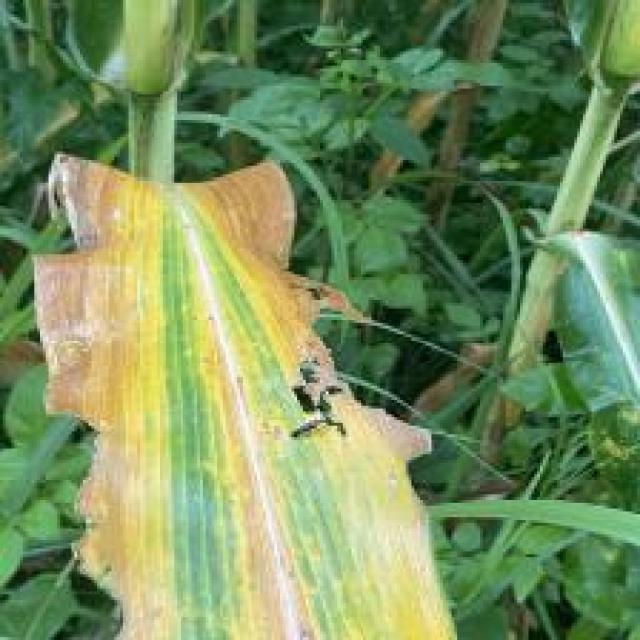Plaga: (273, 411, 330, 451)
